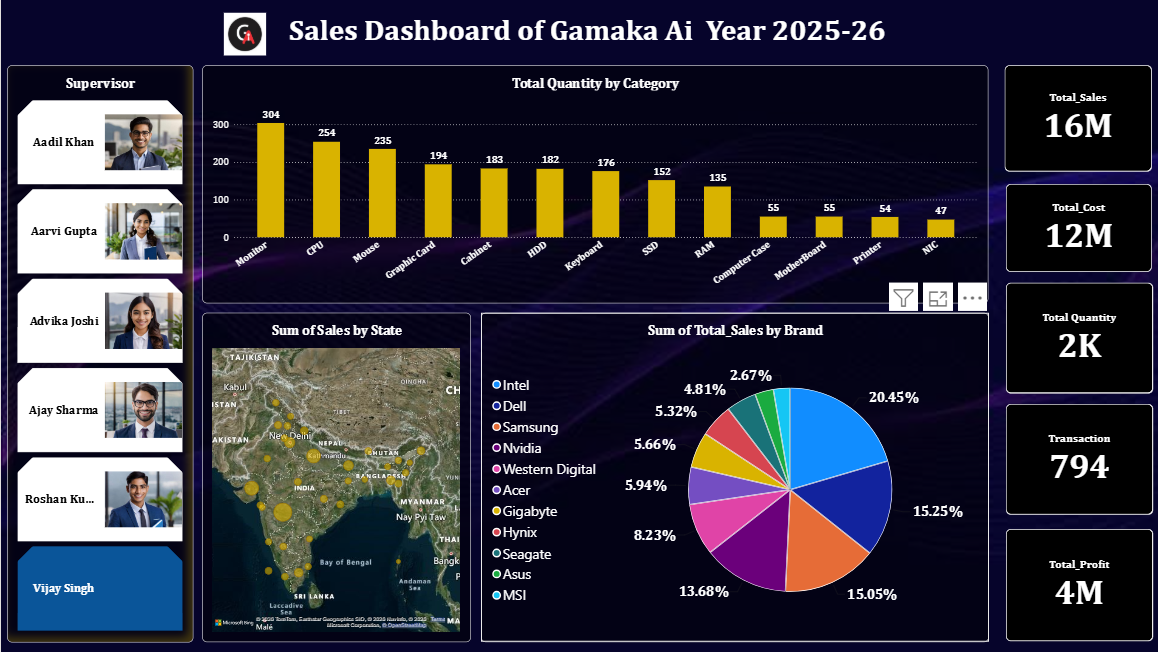

The dashboard page shown, as its layout file describes it:
{"tool":"powerbi","page":{"name":"Page 1","canvas":[1920,1080],"ordinal":0},"visuals":[{"type":"textbox","box":[10,23.3,1910,86.7],"z":0},{"type":"cardVisual","fields":{"Data":["Sum(Sales_Data.Total_Cost)"]},"box":[1655,305,240,145],"z":1000},{"type":"cardVisual","fields":{"Data":["Sum(Sales_Data.Total_Sales)"]},"box":[1652.5,110,242.5,175],"z":2000},{"type":"cardVisual","fields":{"Data":["Sum(Sales_Data.Quantity)"]},"box":[1655,467.5,242.5,182.5],"z":3000},{"type":"cardVisual","fields":{"Data":["CountNonNull(Sales_Data.Order_Number)"]},"box":[1655,667.5,242.5,182.5],"z":4000},{"type":"cardVisual","fields":{"Data":["Sales_Data.Total_Profit"]},"box":[1655,872.5,242.5,185],"z":5000},{"type":"clusteredColumnChart","fields":{"Category":["Sales_Data.Category"],"Y":["Sum(Sales_Data.Quantity)"]},"box":[332,110,1294,392],"z":6000},{"type":"pieChart","fields":{"Category":["Sales_Data.Brand"],"Y":["Sum(Sales_Data.Total_Sales)"]},"box":[790,516,836,542],"z":6001},{"type":"map","fields":{"Category":["State_list.State"],"Size":["Sum(Sales_Data.Sales)"]},"box":[332,516,442,542],"z":6002},{"type":"advancedSlicerVisual","fields":{"Values":["Supervisor.Supervisor"]},"box":[10,110,306,950],"z":6003},{"type":"image","box":[357.5,22.5,87.5,70],"z":6004}]}

Visuals, with their boxes in screenshot pixels (x1, y1, x2, y2), scaled from the page's 1920x1080 canvas onto the 1158x652 screenshot:
textbox: select_region(6, 14, 1157, 66)
cardVisual - Sum(Sales_Data.Total_Cost): select_region(998, 184, 1143, 272)
cardVisual - Sum(Sales_Data.Total_Sales): select_region(997, 66, 1143, 172)
cardVisual - Sum(Sales_Data.Quantity): select_region(998, 282, 1144, 392)
cardVisual - CountNonNull(Sales_Data.Order_Number): select_region(998, 403, 1144, 513)
cardVisual - Sales_Data.Total_Profit: select_region(998, 527, 1144, 638)
clusteredColumnChart - Sales_Data.Category x Sum(Sales_Data.Quantity): select_region(200, 66, 981, 303)
pieChart - Sales_Data.Brand x Sum(Sales_Data.Total_Sales): select_region(476, 312, 981, 639)
map - State_list.State x Sum(Sales_Data.Sales): select_region(200, 312, 467, 639)
advancedSlicerVisual - Supervisor.Supervisor: select_region(6, 66, 191, 640)
image: select_region(216, 14, 268, 56)
